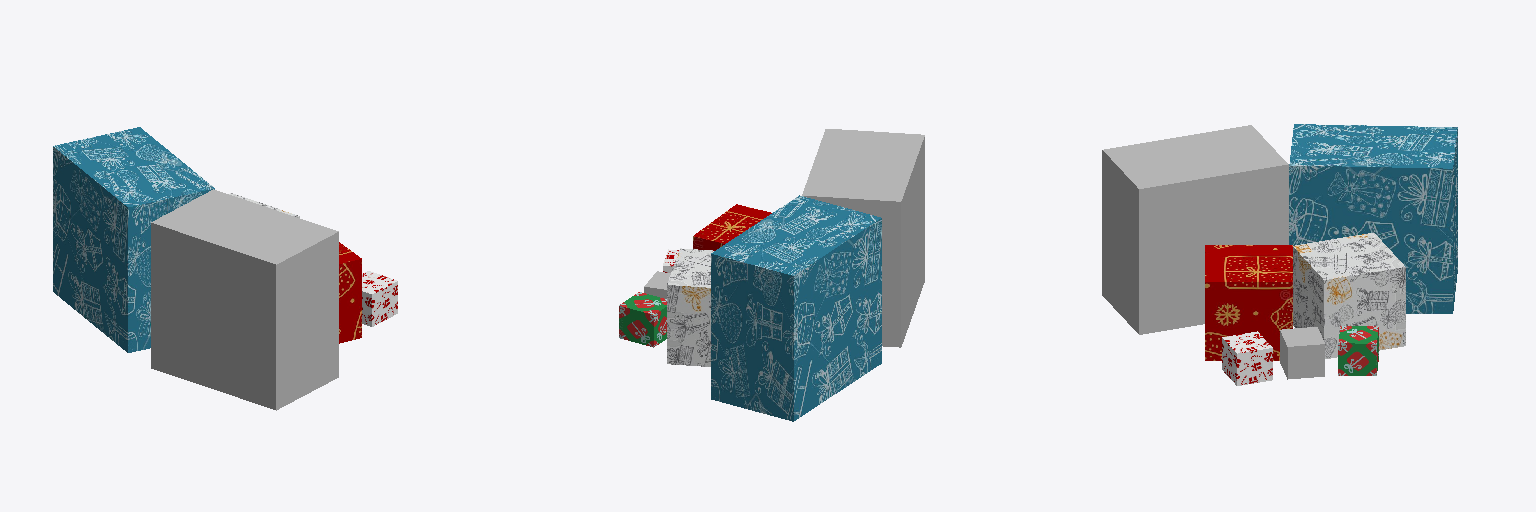
3 renders of one model, left to right at view 1: azimuth 30°, elevation 25°; view 2: azimuth 150°, elevation 25°; view 3: azimuth 270°, elevation 25°, orthographic.
Parts seen in each view (by area): view 1: Cube.002, Cube.003, Cube, Cube.006; view 2: Cube.003, Cube.002, Cube.001, Cube.004, Cube; view 3: Cube.002, Cube.003, Cube.001, Cube, Cube.006, Cube.005, Cube.004.
Part boxes in pixels (x1,y1,x2,y2): Cube.002: (151, 189, 338, 410); Cube.003: (53, 127, 214, 352); Cube: (339, 242, 361, 343); Cube.006: (362, 271, 397, 326); Cube.003: (711, 195, 881, 421); Cube.002: (802, 129, 924, 347); Cube.001: (667, 248, 713, 366); Cube.004: (619, 292, 666, 347); Cube: (693, 204, 771, 250); Cube.002: (1102, 125, 1288, 334); Cube.003: (1289, 124, 1457, 313); Cube.001: (1293, 233, 1405, 358); Cube: (1205, 245, 1292, 360); Cube.006: (1222, 331, 1272, 385); Cube.005: (1280, 327, 1324, 379); Cube.004: (1338, 326, 1378, 375).
Size of the model in its own units: 6.38 by 3.68 by 8.12.
7 materials, 5 textured.